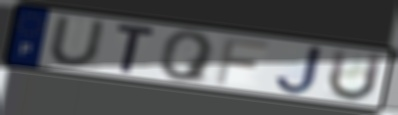F: (213, 35, 271, 86)
J: (272, 44, 326, 96)
Q: (158, 30, 218, 85)
T: (114, 22, 159, 76)
U: (325, 47, 386, 103), (47, 15, 108, 70)
